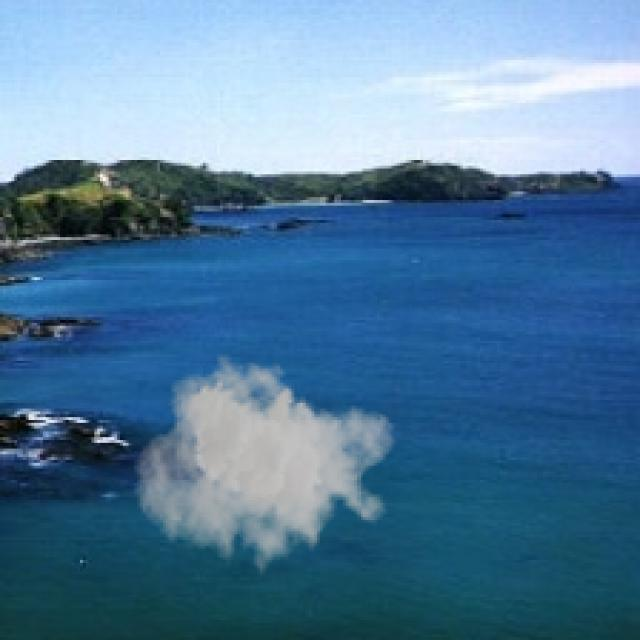Smoke: (134, 354, 397, 586)
